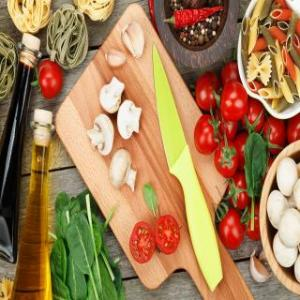garlic: (105, 19, 143, 71), (248, 251, 272, 284)
tomato: (222, 80, 250, 122), (37, 58, 63, 100), (219, 210, 244, 248), (194, 115, 218, 151), (262, 124, 290, 154), (227, 173, 249, 210), (198, 74, 220, 106), (215, 142, 237, 174), (245, 104, 262, 134)
